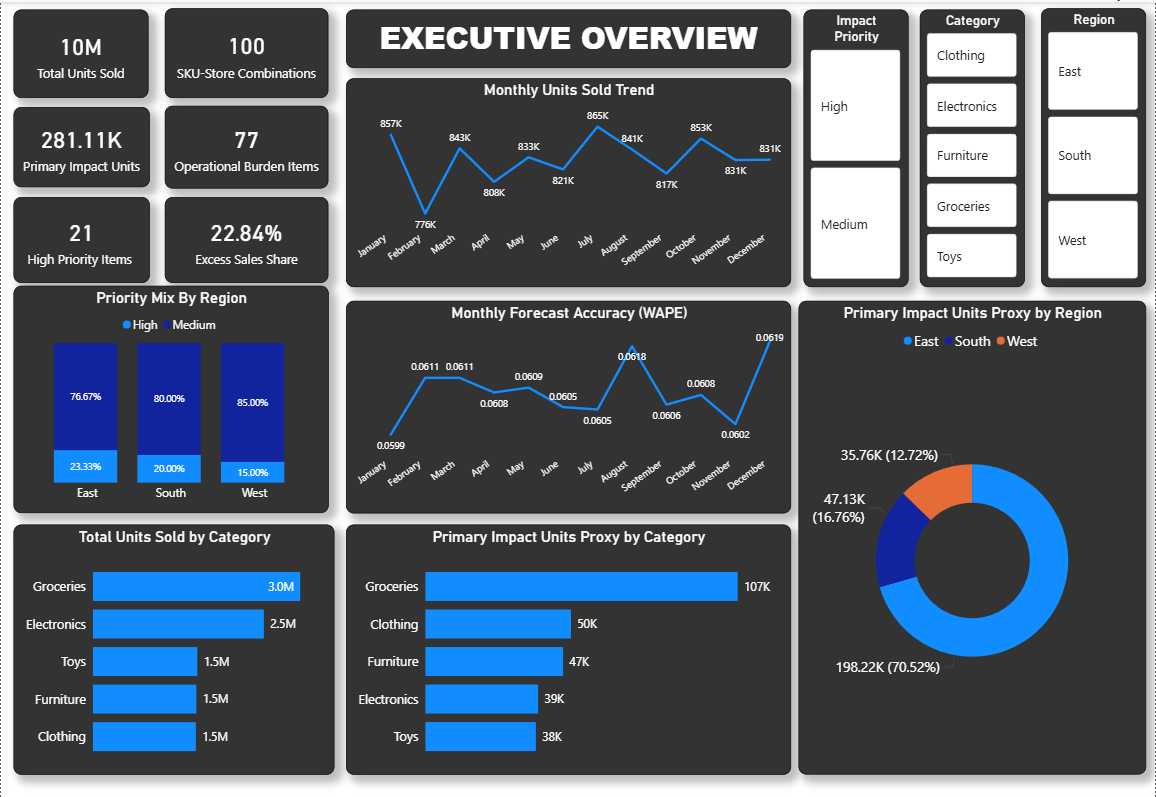

The dashboard page shown, as its layout file describes it:
{"tool":"powerbi","page":{"name":"Executive Overview","canvas":[1450,1000],"ordinal":0},"visuals":[{"type":"advancedSlicerVisual","title":"Category","fields":{"Values":["Impact_Master.category_clean"]},"box":[1154.2,9.4,131.9,348.6],"z":0},{"type":"advancedSlicerVisual","title":"Region","fields":{"Values":["Impact_Master.region_clean"]},"box":[1306.5,7.9,131.9,350.2],"z":1000},{"type":"advancedSlicerVisual","title":"Impact Priority","fields":{"Values":["Impact_Master.impact_priority"]},"box":[1008.2,9.4,131.9,348.6],"z":2000},{"type":"card","fields":{"Values":["Impact_Master.Total Units Sold"]},"box":[15.7,9.4,169.6,111.5],"z":3000},{"type":"card","fields":{"Values":["Impact_Master.SKU-Store Count"]},"box":[205.7,7.9,205.7,113.1],"z":4000},{"type":"card","fields":{"Values":["Impact_Master.High Priority Item Count"]},"box":[15.7,245,171.2,108.4],"z":5000},{"type":"card","fields":{"Values":["Impact_Master.Primary Impact Units Proxy"]},"box":[15.7,131.9,171.2,100.5],"z":6000},{"type":"card","fields":{"Values":["Impact_Master.Sales Share in Excess Items %"]},"box":[205.7,245,205.7,108.4],"z":7000},{"type":"card","fields":{"Values":["Impact_Master.Operational Burden Item Count"]},"box":[205.7,130.3,205.7,103.6],"z":8000},{"type":"hundredPercentStackedColumnChart","title":"Priority Mix By Region","fields":{"Category":["Impact_Master.region_clean"],"Series":["Impact_Master.impact_priority"],"Y":["Impact_Master.SKU-Store Count"]},"box":[15.7,356.5,395.7,285.8],"z":9000},{"type":"barChart","title":"Total Units Sold by Category","fields":{"Category":["Impact_Master.category_clean"],"Y":["Impact_Master.Total Units Sold"]},"box":[15.7,656.4,403.6,314.1],"z":10000},{"type":"lineChart","title":"Monthly Units Sold Trend","fields":{"Category":["Monthly_KPI.month.Variation.Date Hierarchy.Month"],"Y":["Monthly_KPI.Monthly Total Units Sold"]},"box":[433.4,95.8,559,262.3],"z":11000},{"type":"textbox","box":[433.4,9.4,559,73.8],"z":12000},{"type":"lineChart","title":"Monthly Forecast Accuracy (WAPE)","fields":{"Category":["Monthly_KPI.month.Variation.Date Hierarchy.Month"],"Y":["Monthly_KPI.Monthly WAPE"]},"box":[433.4,375.3,559,267],"z":13000},{"type":"clusteredBarChart","title":"Primary Impact Units Proxy by Category","fields":{"Category":["Impact_Master.category_clean"],"Y":["Sum(Impact_Master.primary_impact_units_proxy)"]},"box":[433,656,559,314],"z":14000},{"type":"donutChart","title":"Primary Impact Units Proxy by Region","fields":{"Y":["Impact_Master.Primary Impact Units Proxy"],"Category":["Impact_Master.region_clean"]},"box":[1001.9,375.3,436.6,595.2],"z":15000}]}

Visuals, with their boxes in screenshot pixels (x1, y1, x2, y2), scaled from the page's 1450x1000 canvas onto the 1156x797 screenshot:
"Category" advancedSlicerVisual: detection(920, 7, 1025, 285)
"Region" advancedSlicerVisual: detection(1042, 6, 1147, 285)
"Impact Priority" advancedSlicerVisual: detection(804, 7, 909, 285)
card - Impact_Master.Total Units Sold: detection(13, 7, 148, 96)
card - Impact_Master.SKU-Store Count: detection(164, 6, 328, 96)
card - Impact_Master.High Priority Item Count: detection(13, 195, 149, 282)
card - Impact_Master.Primary Impact Units Proxy: detection(13, 105, 149, 185)
card - Impact_Master.Sales Share in Excess Items %: detection(164, 195, 328, 282)
card - Impact_Master.Operational Burden Item Count: detection(164, 104, 328, 186)
"Priority Mix By Region" hundredPercentStackedColumnChart: detection(13, 284, 328, 512)
"Total Units Sold by Category" barChart: detection(13, 523, 334, 773)
"Monthly Units Sold Trend" lineChart: detection(346, 76, 791, 285)
textbox: detection(346, 7, 791, 66)
"Monthly Forecast Accuracy (WAPE)" lineChart: detection(346, 299, 791, 512)
"Primary Impact Units Proxy by Category" clusteredBarChart: detection(345, 523, 791, 773)
"Primary Impact Units Proxy by Region" donutChart: detection(799, 299, 1147, 773)
